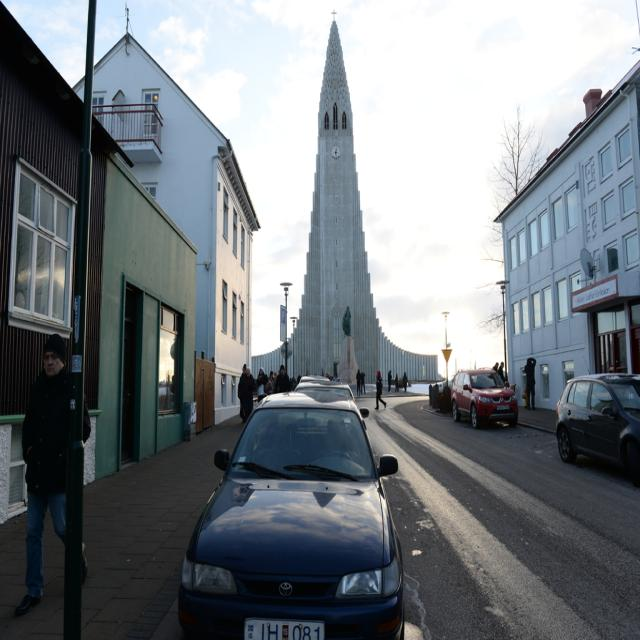car: (556, 373, 639, 461), (292, 381, 370, 447), (448, 365, 518, 431), (298, 372, 324, 382)
